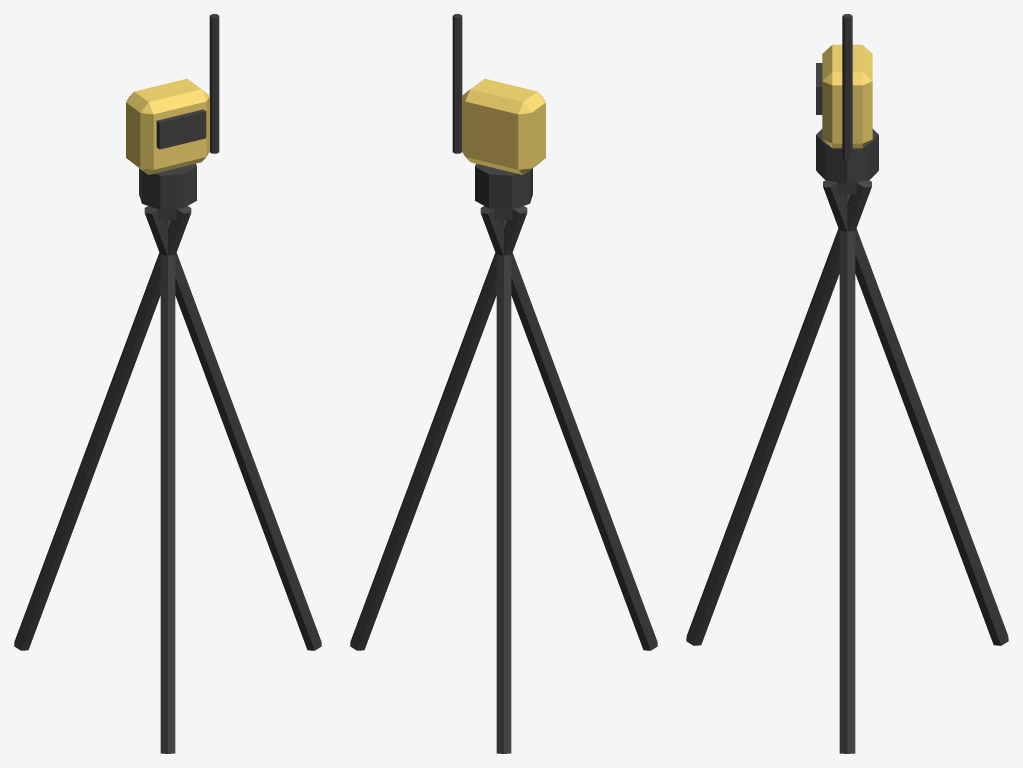
3 views of the same model, side by side, from view 1: azimuth 30°, elevation 25°; view 2: azimuth 150°, elevation 25°; view 3: azimuth 270°, elevation 25° (orthographic). The views are drawn at different scales.
Parts seen in each view (by area): view 1: Leg.002, Leg, Leg.001, Meter, Mount, Readout, Probe; view 2: Leg.001, Leg, Leg.002, Meter, Mount, Probe; view 3: Leg, Leg.001, Leg.002, Meter, Mount, Probe.
Part boxes in pixels (left/top/right/bottom): Leg.002: left=160, top=220, right=175, bottom=753; Leg: left=144, top=206, right=321, bottom=650; Leg.001: left=14, top=206, right=191, bottom=650; Meter: left=126, top=78, right=209, bottom=174; Mount: left=139, top=163, right=196, bottom=209; Readout: left=156, top=109, right=206, bottom=149; Probe: left=209, top=14, right=219, bottom=153; Leg.001: left=496, top=220, right=511, bottom=753; Leg: left=350, top=206, right=527, bottom=650; Leg.002: left=480, top=206, right=657, bottom=650; Meter: left=462, top=78, right=545, bottom=174; Mount: left=475, top=163, right=532, bottom=209; Probe: left=452, top=14, right=462, bottom=153; Leg: left=839, top=194, right=855, bottom=753; Leg.001: left=823, top=180, right=1008, bottom=645; Leg.002: left=686, top=180, right=871, bottom=645; Meter: left=822, top=44, right=872, bottom=148; Mount: left=816, top=129, right=878, bottom=183; Probe: left=842, top=14, right=852, bottom=160.
Bounding box in the file's own units: 50.33 × 135 × 57.25.
